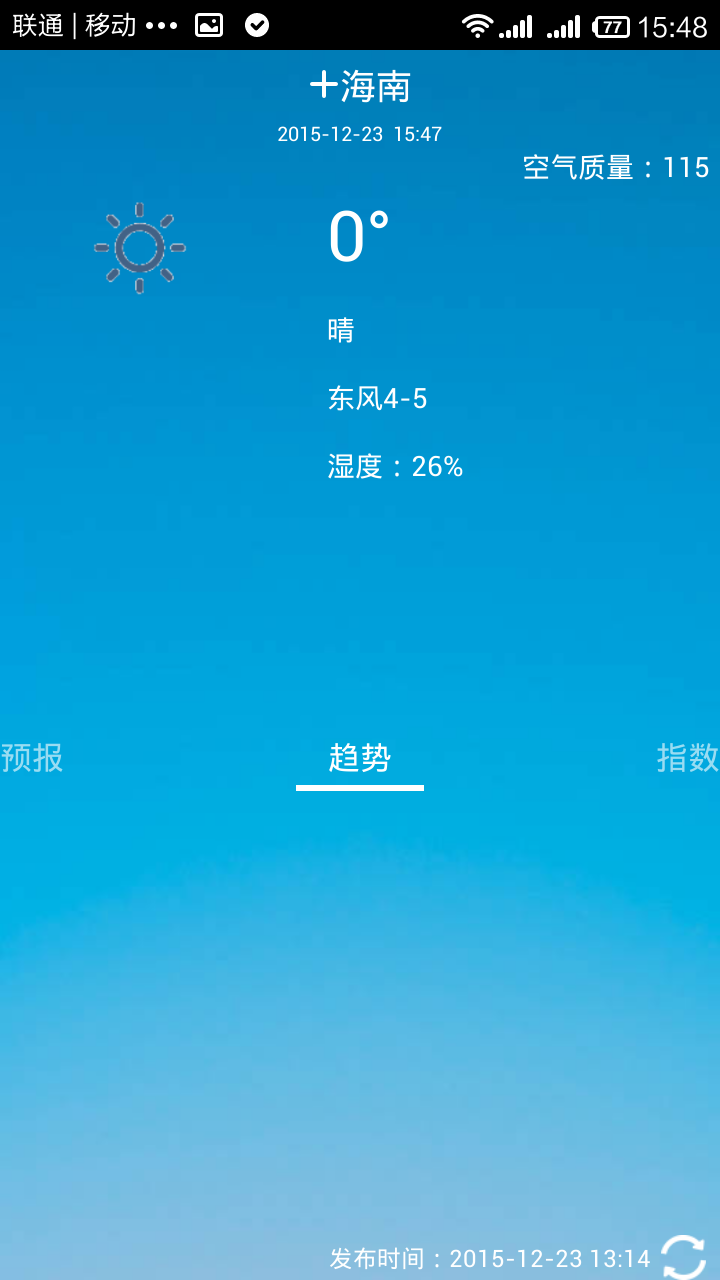textview: (324, 194, 490, 489), (286, 724, 410, 773)
